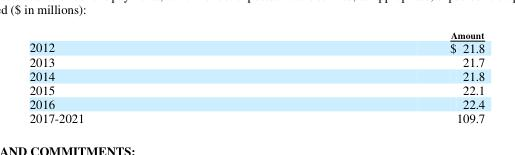table: (28, 28, 484, 124)
table column: (28, 28, 266, 124), (266, 28, 484, 124)
table column header: (28, 28, 484, 39)
table row: (28, 39, 484, 54), (28, 54, 484, 68), (28, 68, 484, 82), (28, 82, 484, 96), (28, 96, 484, 110), (28, 110, 484, 124), (28, 28, 484, 39)
